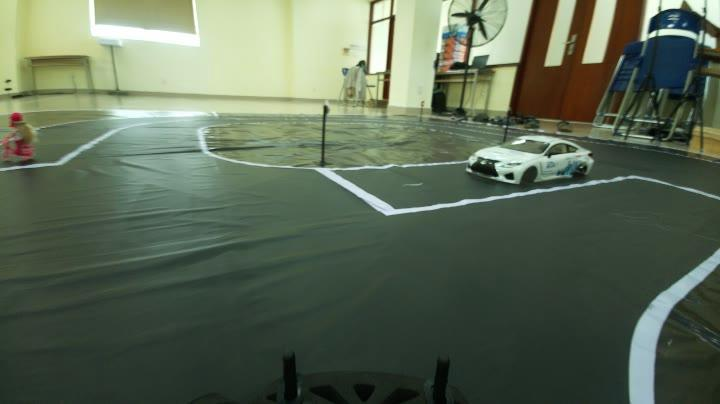car: (459, 137, 608, 191)
